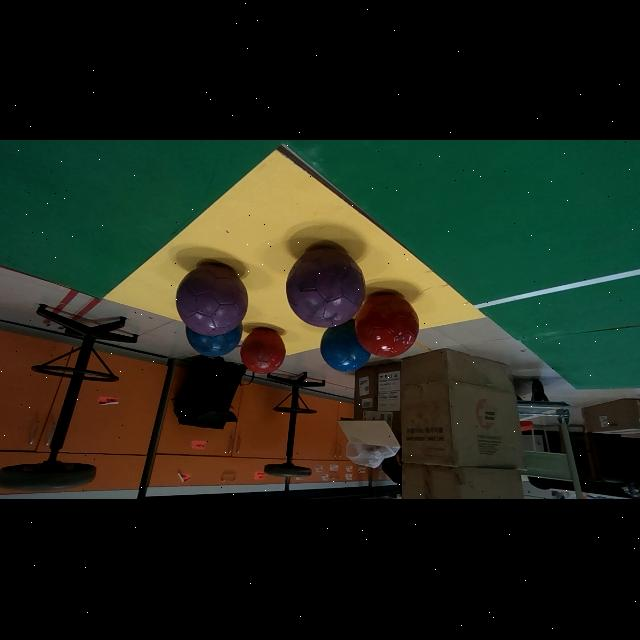B: (321, 321, 371, 373), (186, 325, 243, 359)
P: (287, 249, 366, 328), (176, 265, 248, 336)
R: (355, 295, 420, 359), (240, 328, 285, 375)
